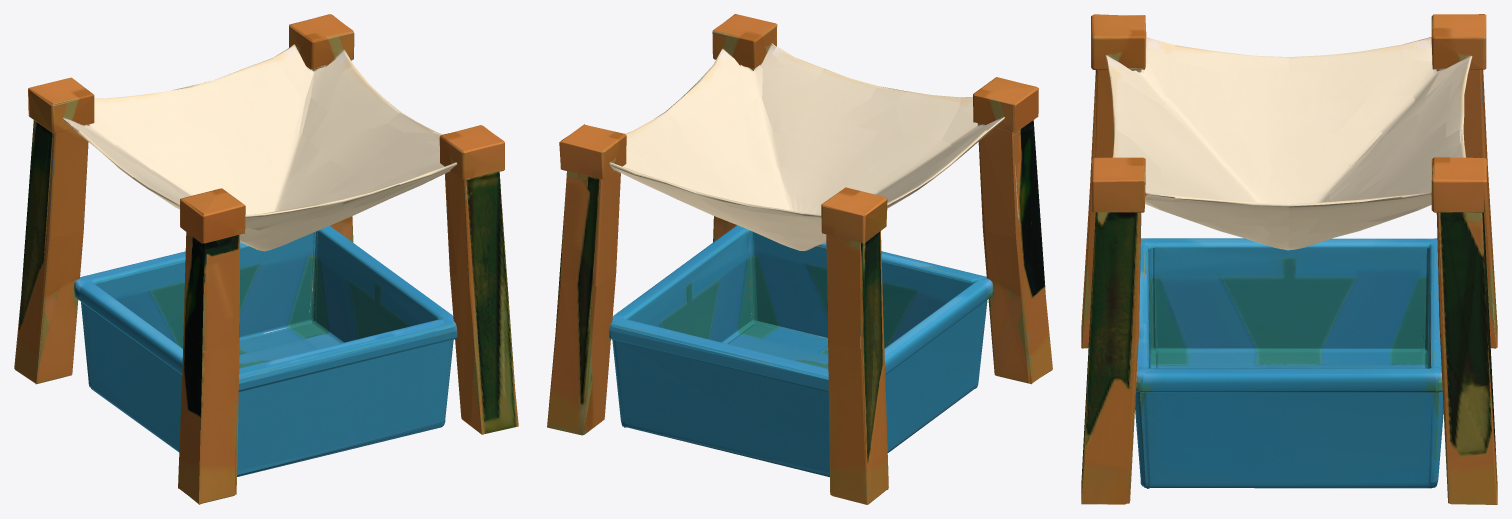
File: rainCollector.glb
3 views of the same model, side by side, from view 1: azimuth 30°, elevation 25°; view 2: azimuth 150°, elevation 25°; view 3: azimuth 270°, elevation 25° (orthographic). The views are drawn at different scales.
Bounding box in the file's own units: 1 × 0.877 × 1.
1 material, 1 textured.
